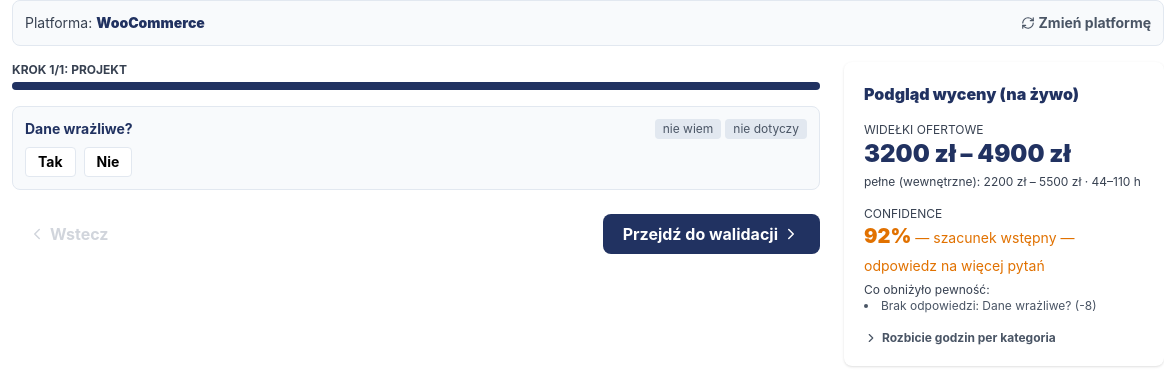
E2E f1c — finalize → ekran wyniku z read-backu › GUARD 409 z serwera → komunikat na ekranie walidacji, brak przejścia do wyniku
Click the button "Nie": coordinates (108, 162) x1=84 y1=147 x2=132 y2=177
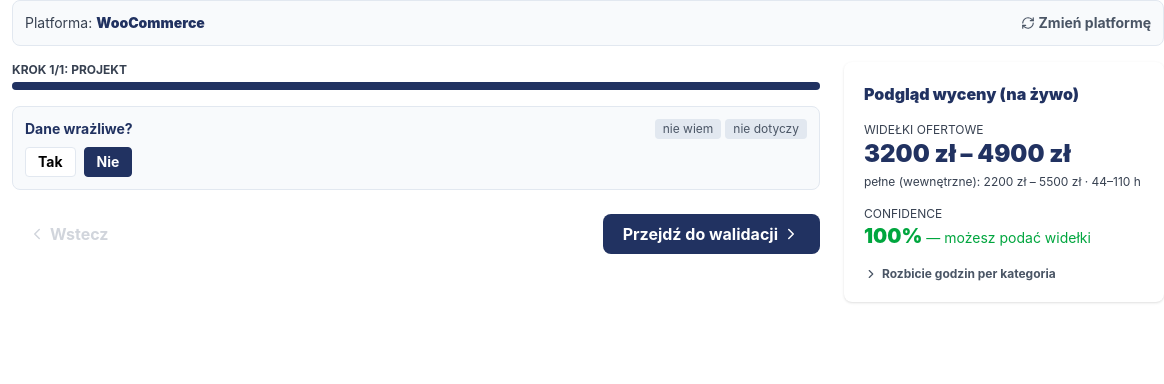
Click the button "Przejdź do walidacji": coordinates (711, 234) x1=603 y1=214 x2=820 y2=254
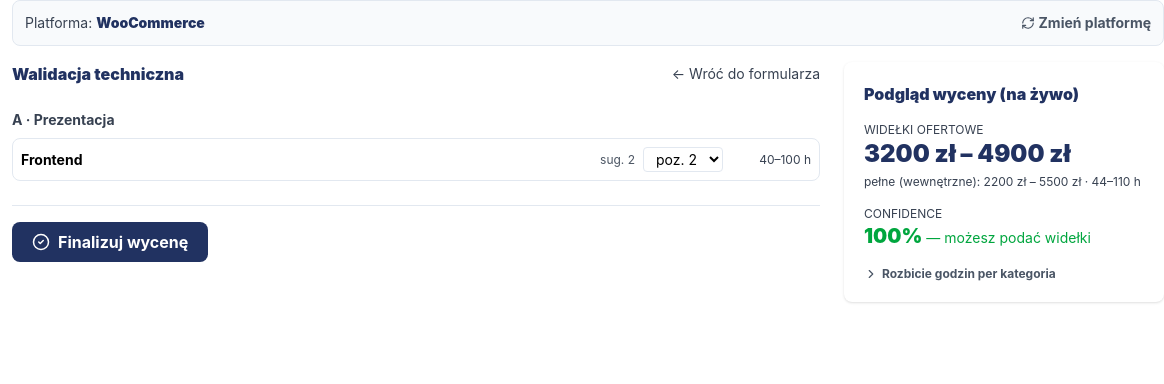
Click the button "Finalizuj wycenę": coordinates (110, 242) x1=12 y1=222 x2=208 y2=262
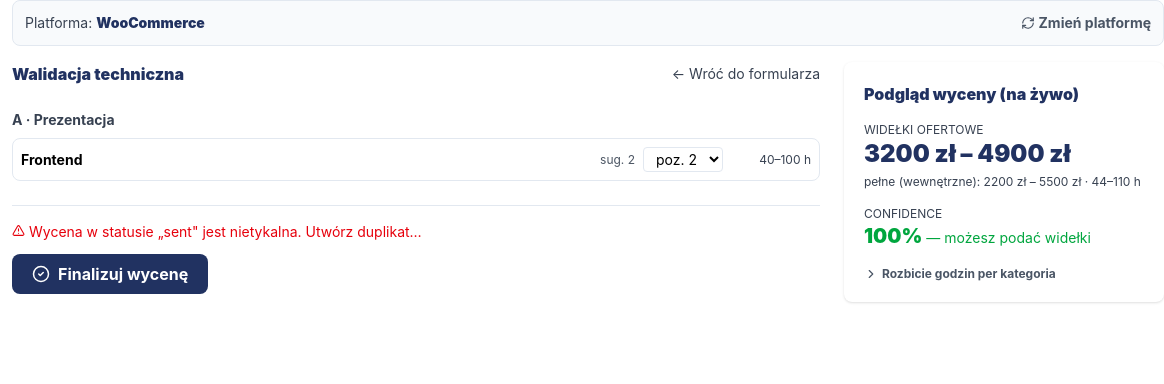
Result: the text "Wycena w statusie „sent\" jest nietykalna. Utwórz duplikat…" is shown at x1=12 y1=223 x2=422 y2=240
